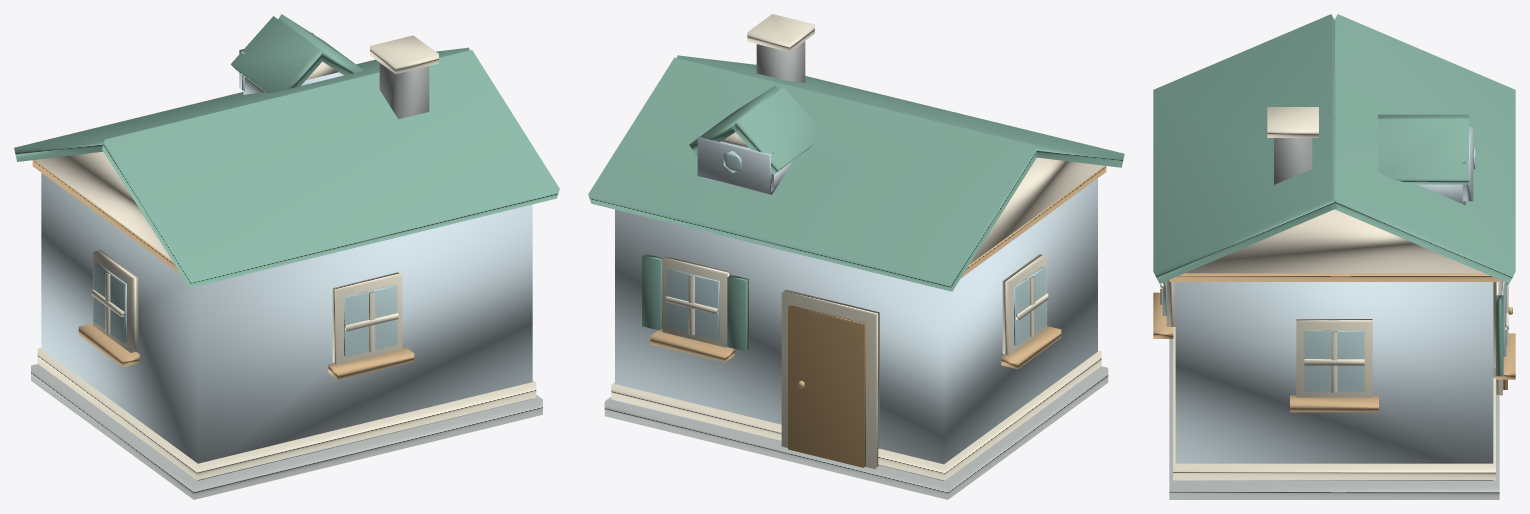
The model's file is cottage_7_low.glb.
3 renders of one model, left to right at view 1: azimuth 30°, elevation 25°; view 2: azimuth 150°, elevation 25°; view 3: azimuth 270°, elevation 25°, orthographic. The views are drawn at different scales.
Size of the model in its own units: 4.12 by 3.58 by 3.42.
